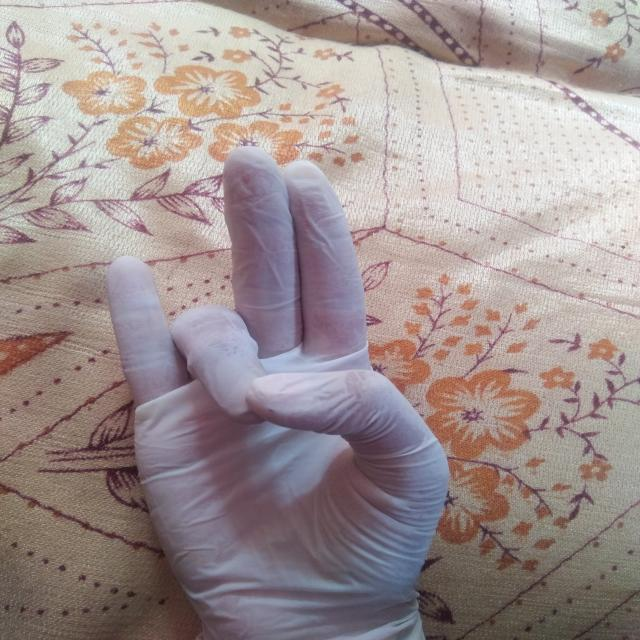glove_hand: (100, 143, 452, 636)
